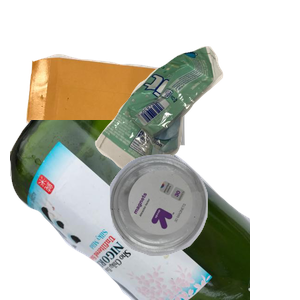glass: (10, 120, 250, 300)
paper: (23, 51, 206, 189)
plastic: (107, 152, 300, 300)
trash: (92, 44, 300, 211)
